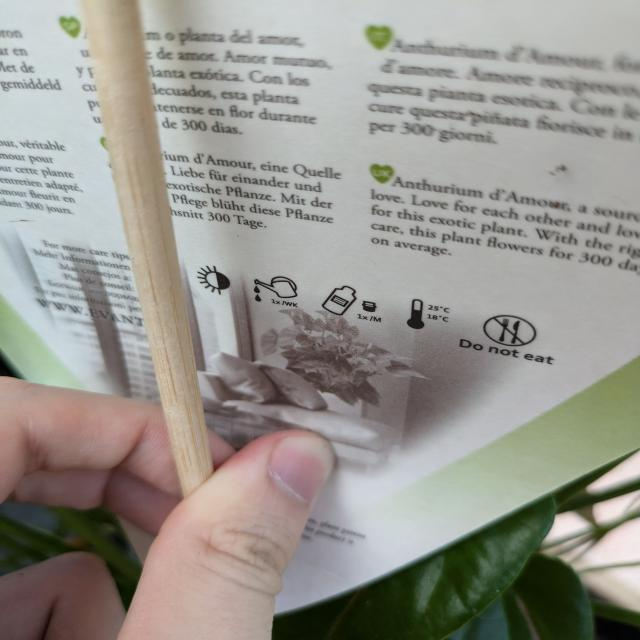dungen: (321, 278, 396, 334)
halb sonnig schattig: (194, 258, 234, 304)
mittel giesen: (249, 270, 309, 313)
